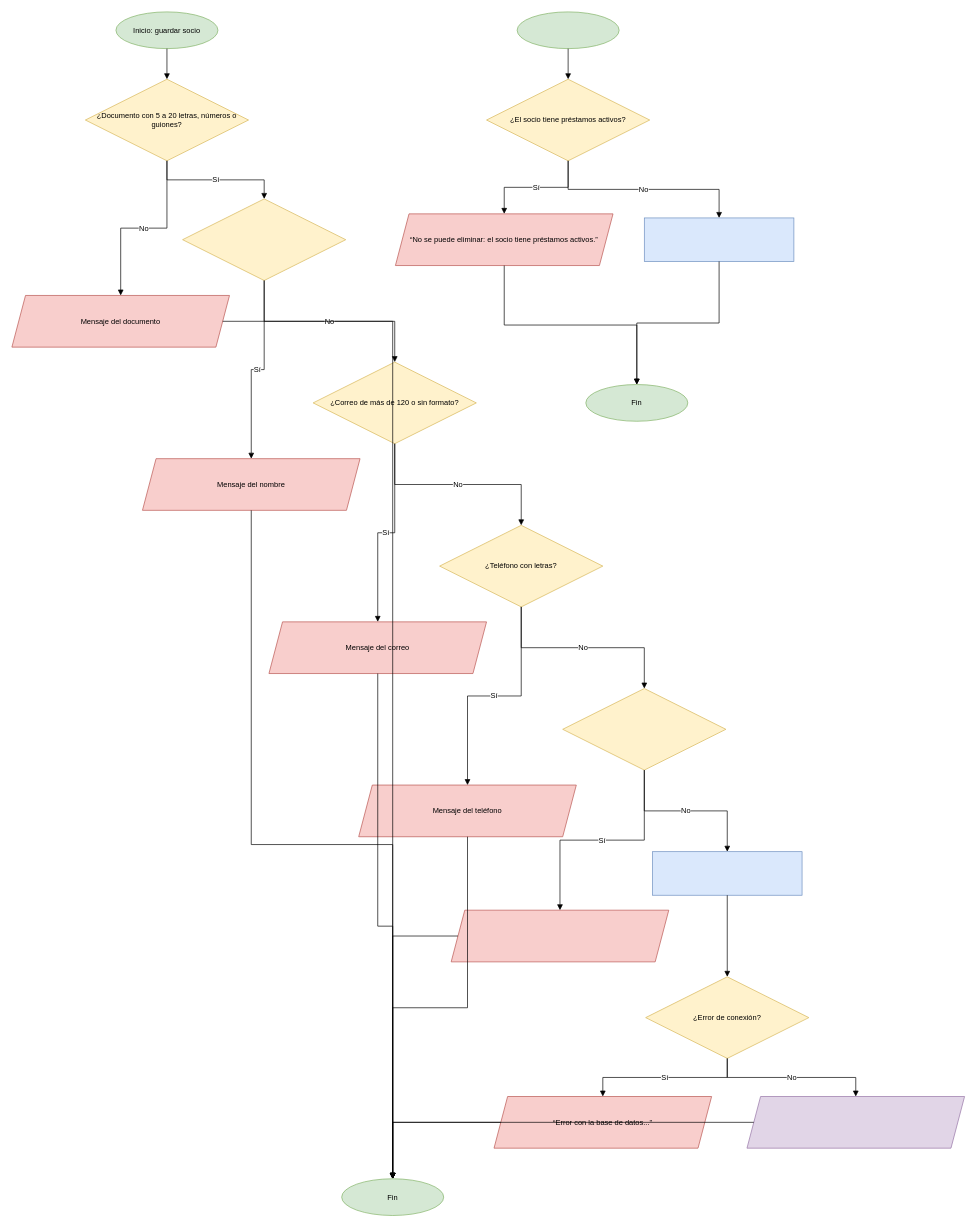
The diagram is 976 pixels wide and 1227 high, and some of its shapes have lost their labels. The shapes that lost their labels are listed below. From the top down, each one's centre as x and y in pixels, then its label:
At (x=567, y=30): "Inicio: eliminar socio".
At (x=264, y=239): "¿Nombre vacío o de más de 120?".
At (x=719, y=239): "Eliminar el socio".
At (x=644, y=729): "¿Documento repetido?".
At (x=727, y=873): "Guardar el socio".
At (x=560, y=936): "“Ya existe un socio con el documento ...”".
At (x=855, y=1122): "“Socio registrado” / “Socio actualizado”".
